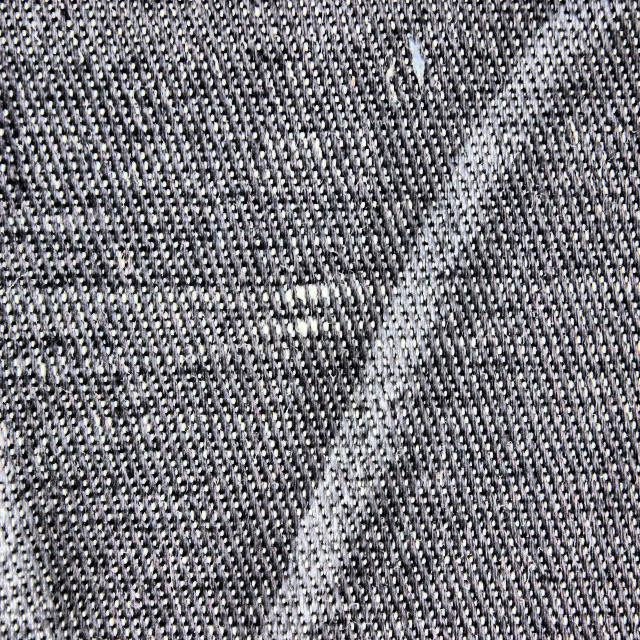baekra: (248, 280, 343, 340)
